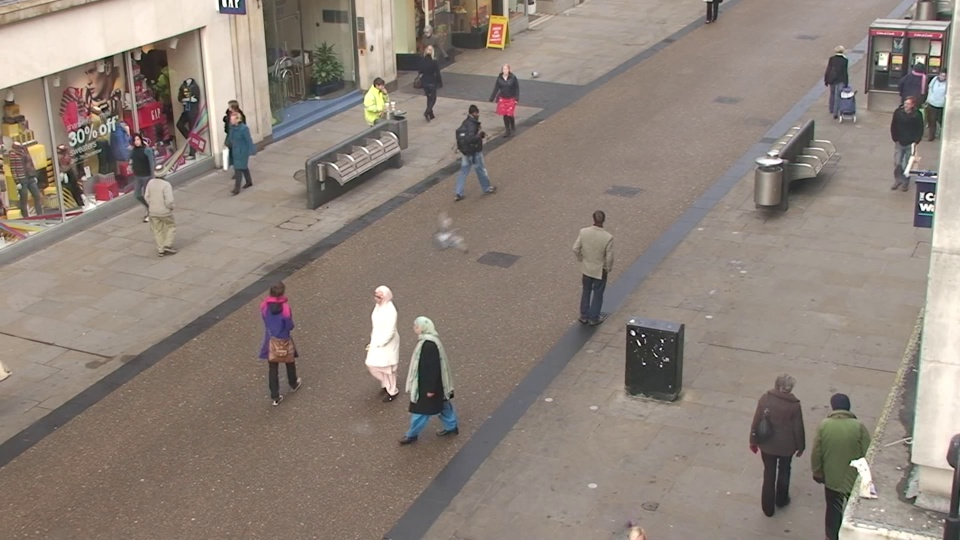pedestrian: (805, 382, 868, 540), (748, 361, 806, 522), (401, 309, 451, 455), (256, 272, 307, 408), (363, 277, 412, 415), (143, 159, 187, 264), (579, 204, 617, 325), (124, 129, 166, 225), (884, 94, 927, 187), (891, 61, 932, 147), (222, 106, 258, 197), (218, 96, 253, 185), (459, 102, 490, 194), (821, 42, 854, 121), (366, 76, 397, 159), (493, 60, 521, 140), (417, 43, 445, 118), (605, 508, 668, 540), (417, 24, 443, 94)
